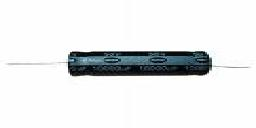Electrolytic-Capacitor: (6, 48, 253, 80)
